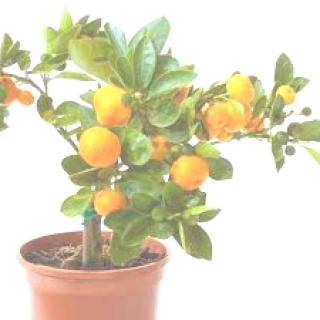orange: (92, 83, 140, 137), (73, 122, 126, 170), (172, 154, 223, 202), (191, 98, 241, 142)
